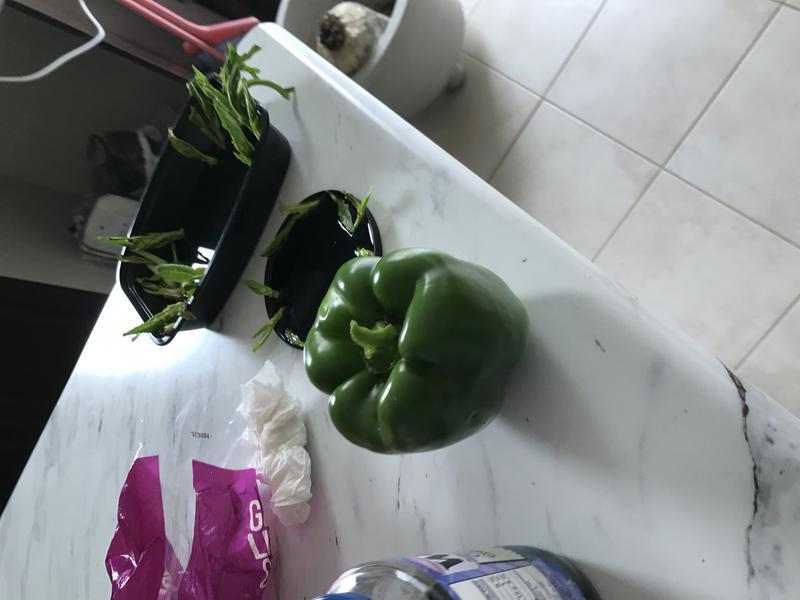green_pepper: (292, 243, 536, 467)
